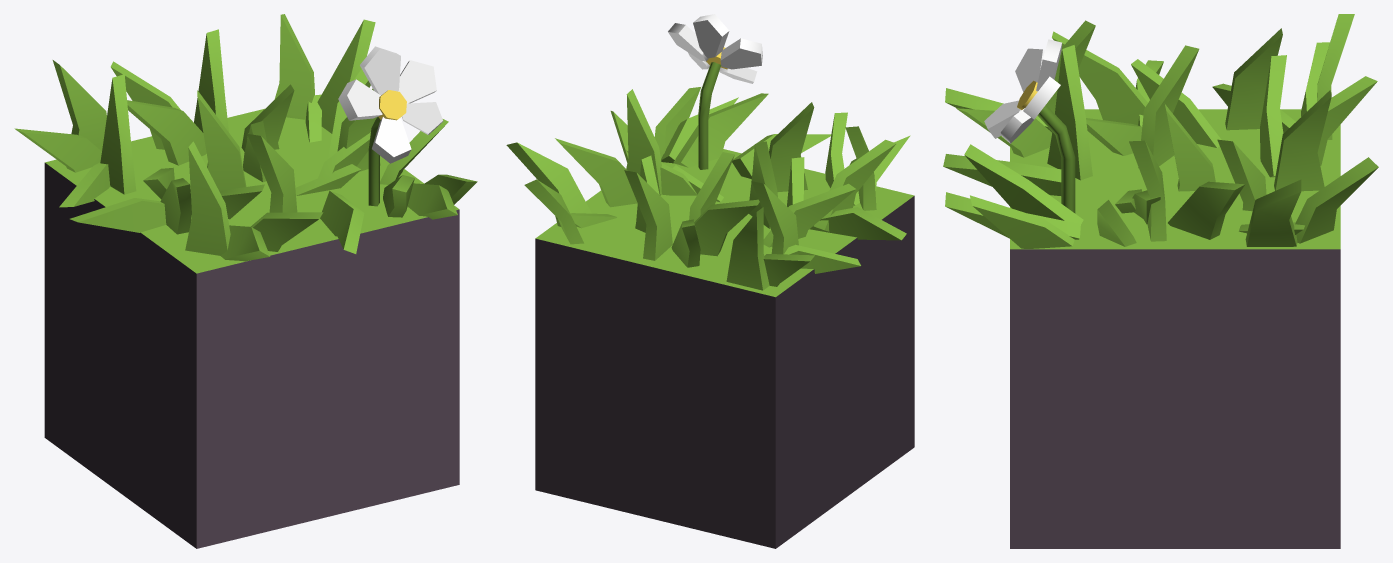
The model's file is tile_floor_nature_grass02.FBX.
3 views of the same model, side by side, from view 1: azimuth 30°, elevation 25°; view 2: azimuth 150°, elevation 25°; view 3: azimuth 270°, elevation 25° (orthographic). The views are drawn at different scales.
Parts seen in each view (by area): view 1: tile_floor_nature_grass02; view 2: tile_floor_nature_grass02; view 3: tile_floor_nature_grass02.
Boxes of the visible parts, x1=… form: tile_floor_nature_grass02: x1=14, y1=14, x2=477, y2=548; tile_floor_nature_grass02: x1=506, y1=14, x2=914, y2=548; tile_floor_nature_grass02: x1=943, y1=14, x2=1378, y2=548.
Bounding box in the file's own units: 55.29 × 62.61 × 51.87.
